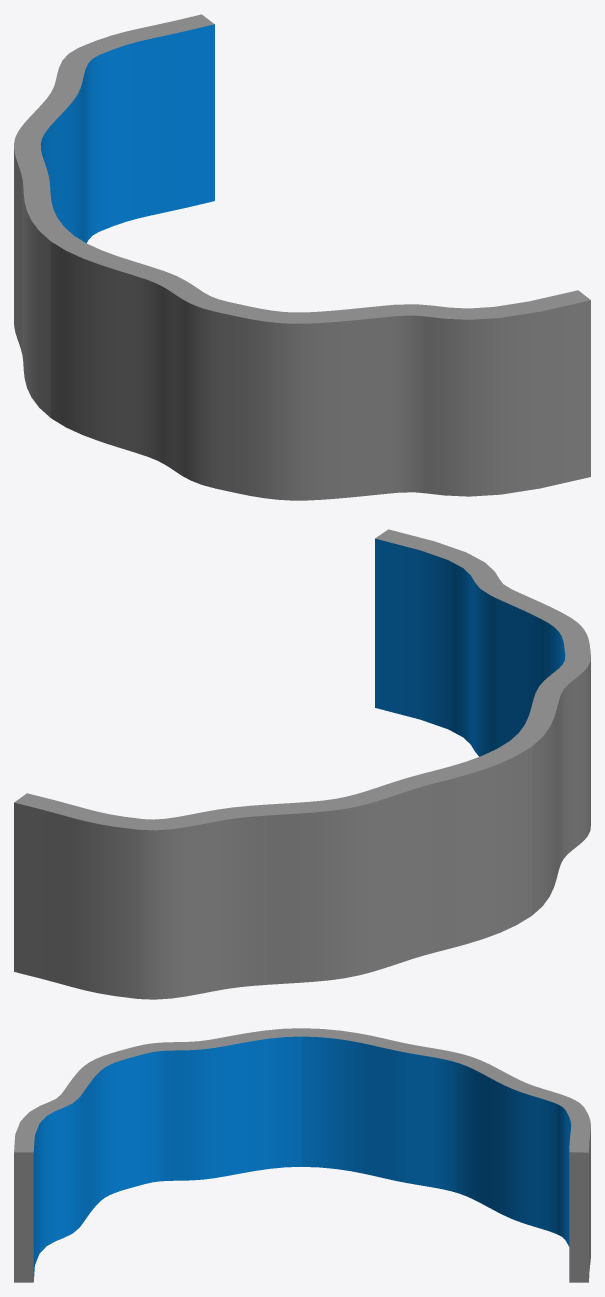
The model's file is wall_fitting room_V2.FBX.
The picture shows the model from 3 angles, top to bottom: view 1: azimuth 30°, elevation 25°; view 2: azimuth 150°, elevation 25°; view 3: azimuth 270°, elevation 25°; orthographic projection. The views are drawn at different scales.
Visible parts, largest first — view 1: light_wall; view 2: light_wall; view 3: light_wall.
Boxes of the visible parts, x1,y1,x2,y2 form: light_wall: (14,14,590,500); light_wall: (14,529,590,999); light_wall: (14,1028,590,1282).
Size of the model in its own units: 819 by 400 by 1605.
